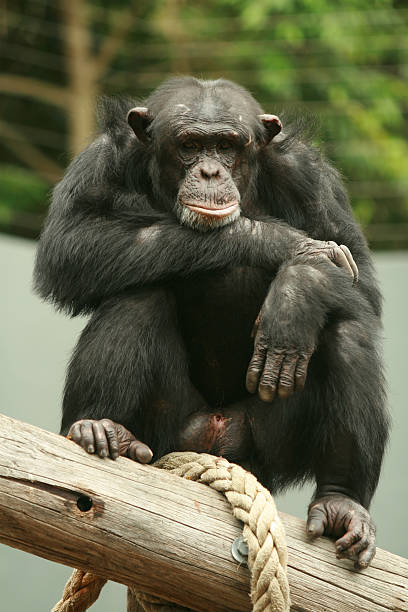chimpanzee: (109, 61, 280, 268)
